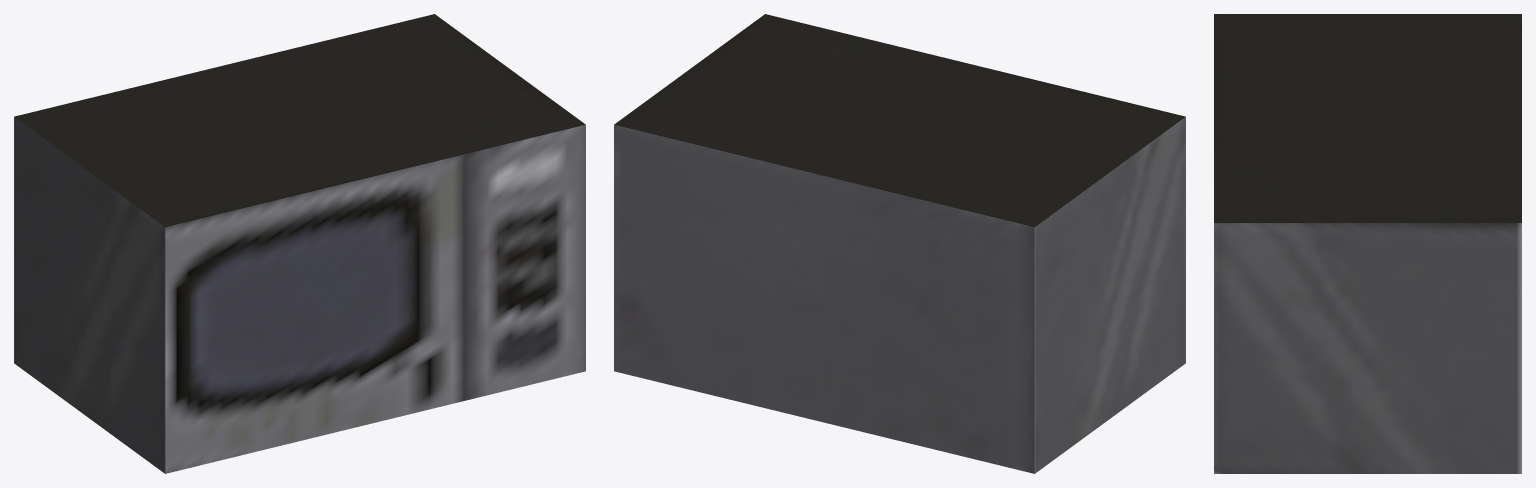
File: W_Microwave2.fbx
3 views of the same model, side by side, from view 1: azimuth 30°, elevation 25°; view 2: azimuth 150°, elevation 25°; view 3: azimuth 270°, elevation 25° (orthographic).
Parts seen in each view (by area): view 1: Cube.001; view 2: Cube.001; view 3: Cube.001.
Boxes of the visible parts, <box> form: Cube.001: <box>14,14,585,473</box>; Cube.001: <box>614,14,1185,473</box>; Cube.001: <box>1214,14,1521,473</box>.
Bounding box in the file's own units: 16.56 × 9.28 × 10.3.
